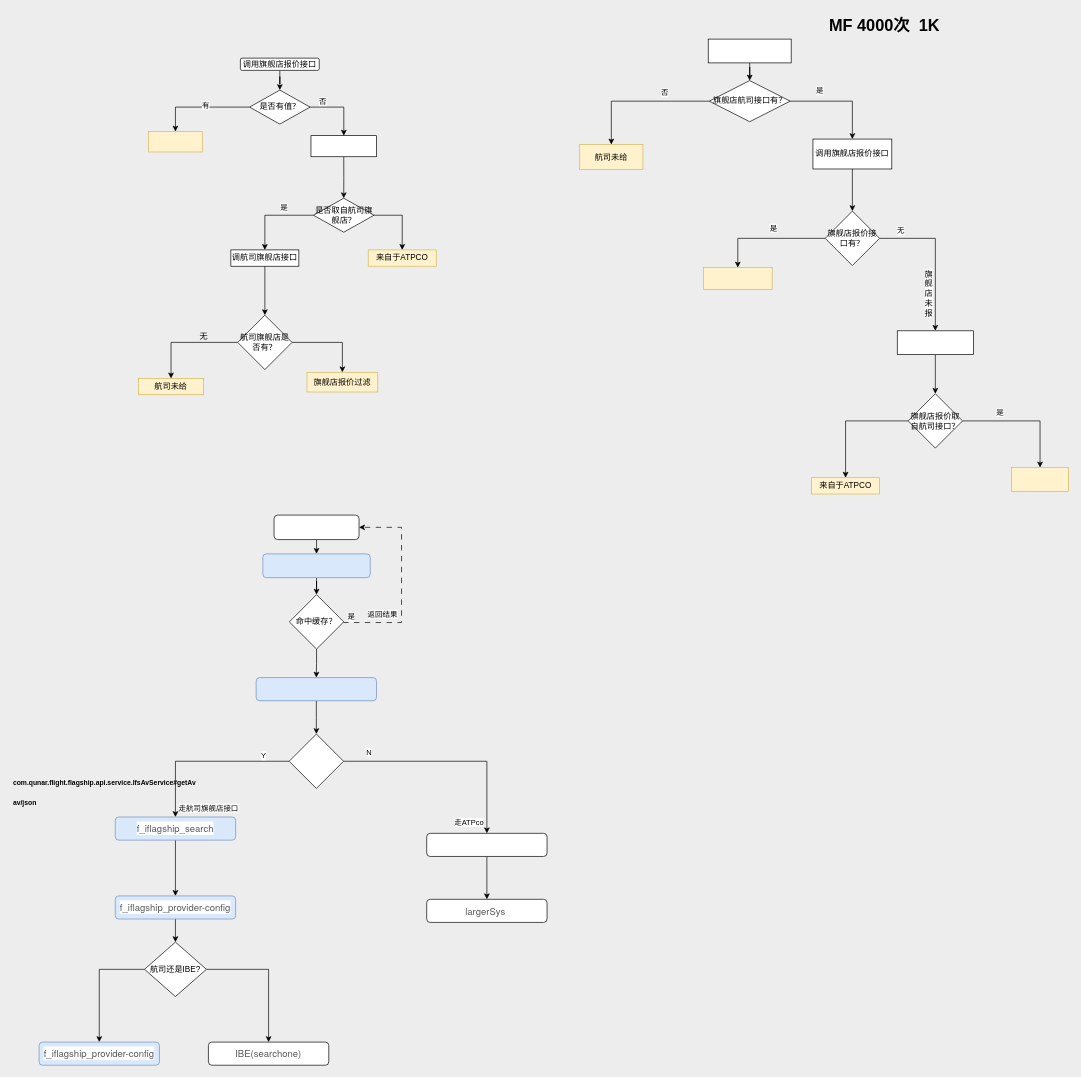
Image size: 1081x1077. Some labels were removed from this diagram. The shapes that lost their labels are listed below. From the top down, each one's centre as x and y in pixels, then its label:
the point at 749,50: 调用底层航司接口
the point at 175,141: 旗舰店报了， 主站未选
the point at 343,146: 旗舰店没报，调用报价来源接口
the point at 737,278: 主站未选
the point at 935,342: 调用旗舰店报价来源接口
the point at 1040,479: 旗舰店过滤
the point at 316,527: f_itts_work_afare
the point at 316,565: f_iflagship_searchadapter
the point at 316,689: f_iflagship_searchschedule
the point at 316,760: dpt-arr-carrier ifsSearch?
the point at 486,844: inter_gds
